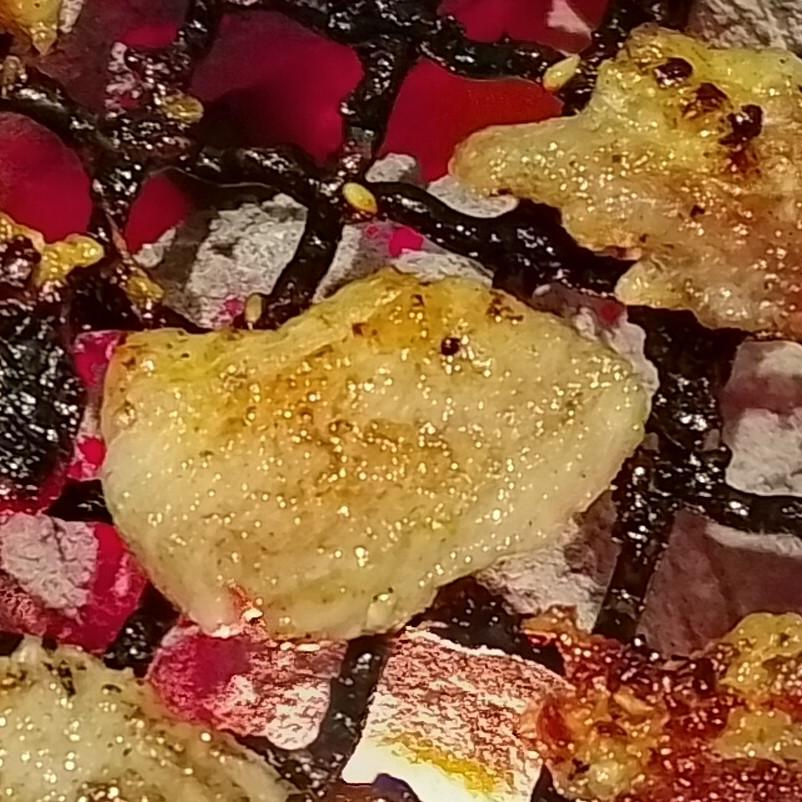Overcooked: (452, 26, 801, 345), (537, 613, 801, 801), (0, 228, 85, 526)
Well-Cooked: (102, 273, 653, 646), (0, 642, 290, 801)
